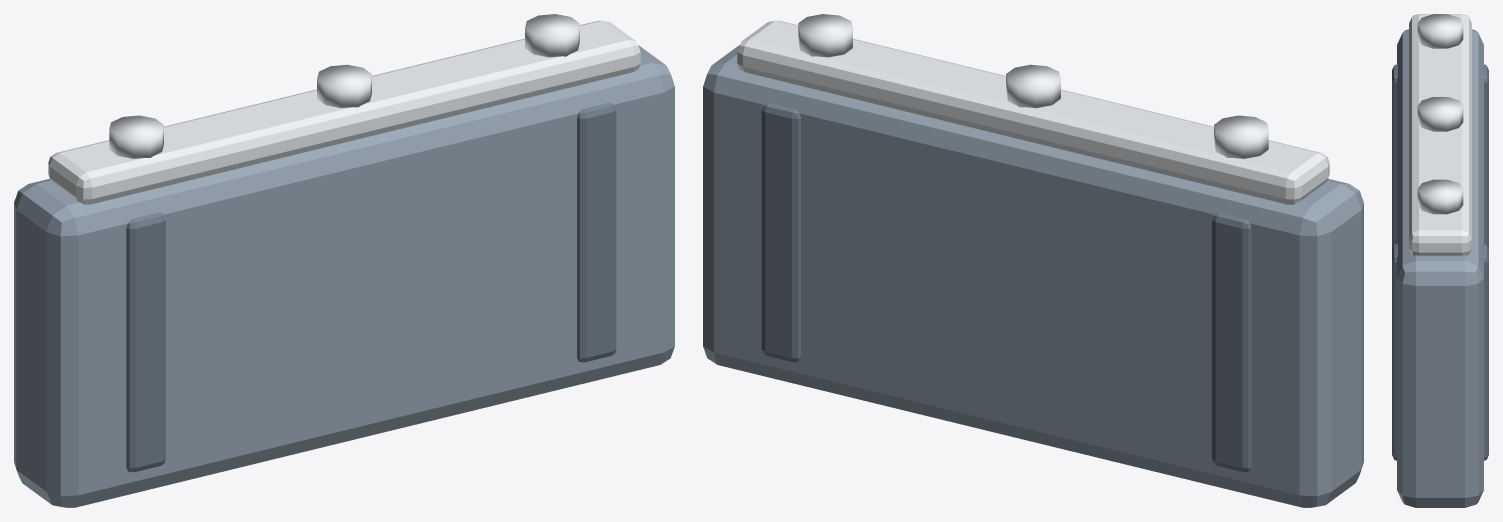
File: wall-steel.glb
3 views of the same model, side by side, from view 1: azimuth 30°, elevation 25°; view 2: azimuth 150°, elevation 25°; view 3: azimuth 270°, elevation 25° (orthographic). The views are drawn at different scales.
Visible parts, largest first — view 1: mesh_wall_steel_body, mesh_wall_steel_accent, mesh_wall_steel_dark; view 2: mesh_wall_steel_body, mesh_wall_steel_accent, mesh_wall_steel_dark; view 3: mesh_wall_steel_body, mesh_wall_steel_accent, mesh_wall_steel_dark.
Boxes of the visible parts, x1=… form: mesh_wall_steel_body: x1=14, y1=45, x2=674, y2=507; mesh_wall_steel_accent: x1=48, y1=14, x2=640, y2=204; mesh_wall_steel_dark: x1=126, y1=102, x2=616, y2=472; mesh_wall_steel_body: x1=703, y1=45, x2=1363, y2=507; mesh_wall_steel_accent: x1=737, y1=14, x2=1329, y2=204; mesh_wall_steel_dark: x1=761, y1=102, x2=1251, y2=472; mesh_wall_steel_body: x1=1397, y1=29, x2=1483, y2=507; mesh_wall_steel_accent: x1=1409, y1=14, x2=1471, y2=255; mesh_wall_steel_dark: x1=1392, y1=64, x2=1488, y2=460.
Size of the model in its own units: 1.08 by 0.5775 by 0.178.
